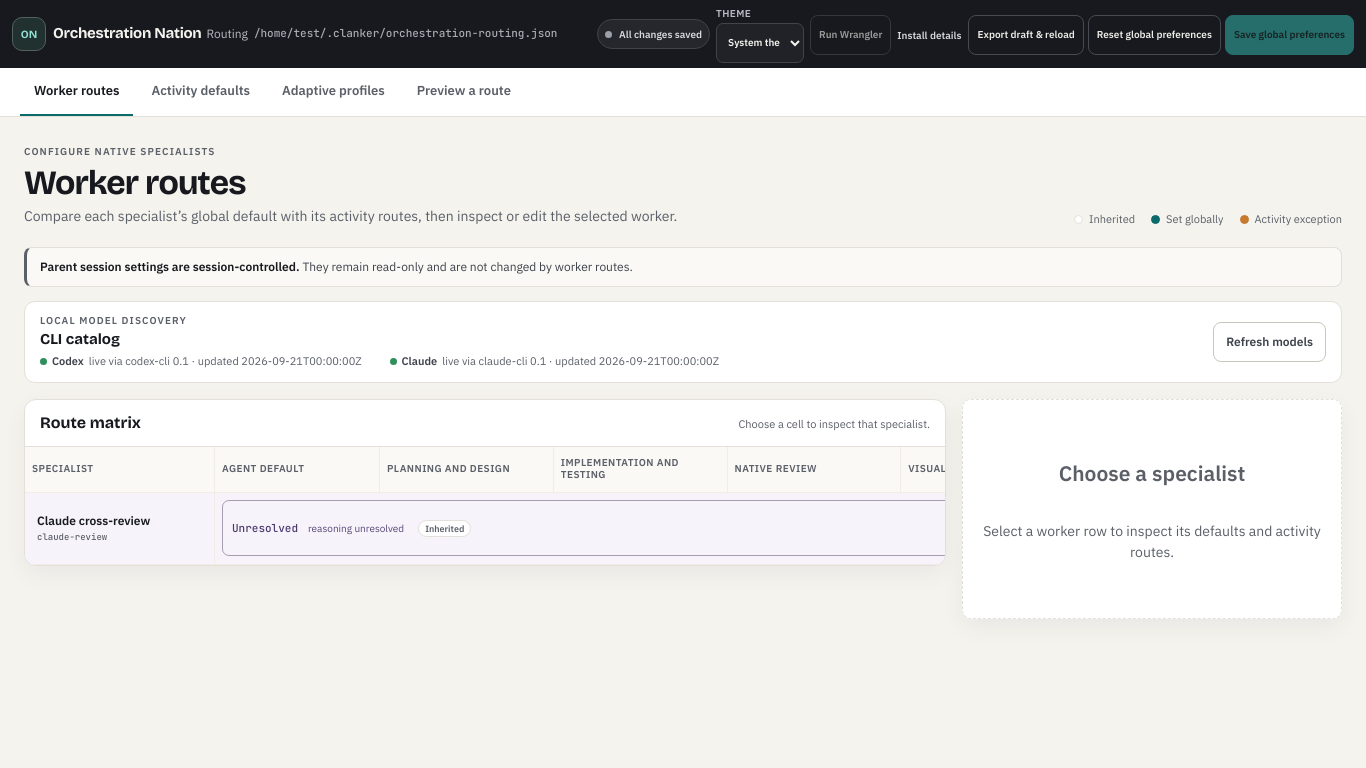
routing editor › does not clear a save failure when automatic draft validation succeeds
Click the tab "Activity defaults" at (201, 92), box 138,68 -> 264,116
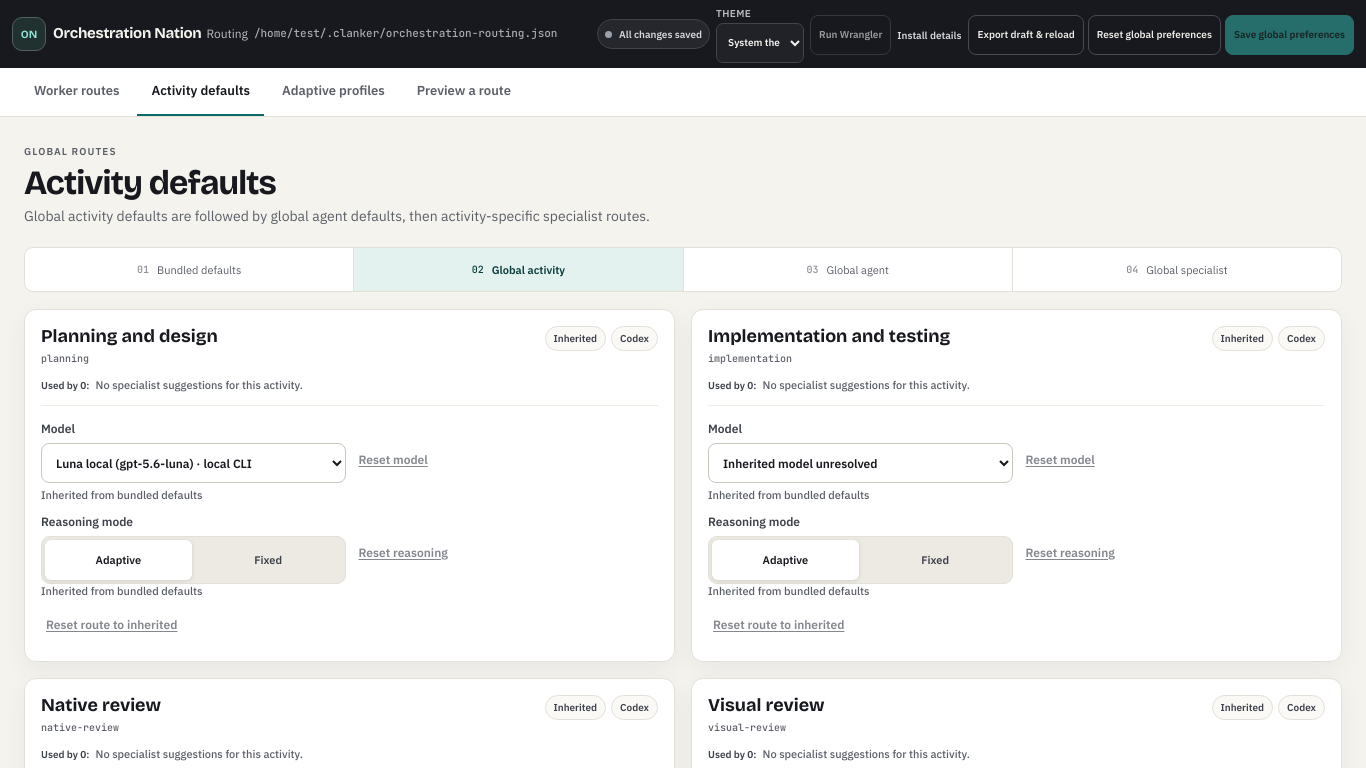
Select "Luna local (gpt-5.6-luna) · local CLI" in the dropdown labelled "Model Inherited from bundled defaults" below "Planning and design" at (193, 463), box 41,443 -> 346,483
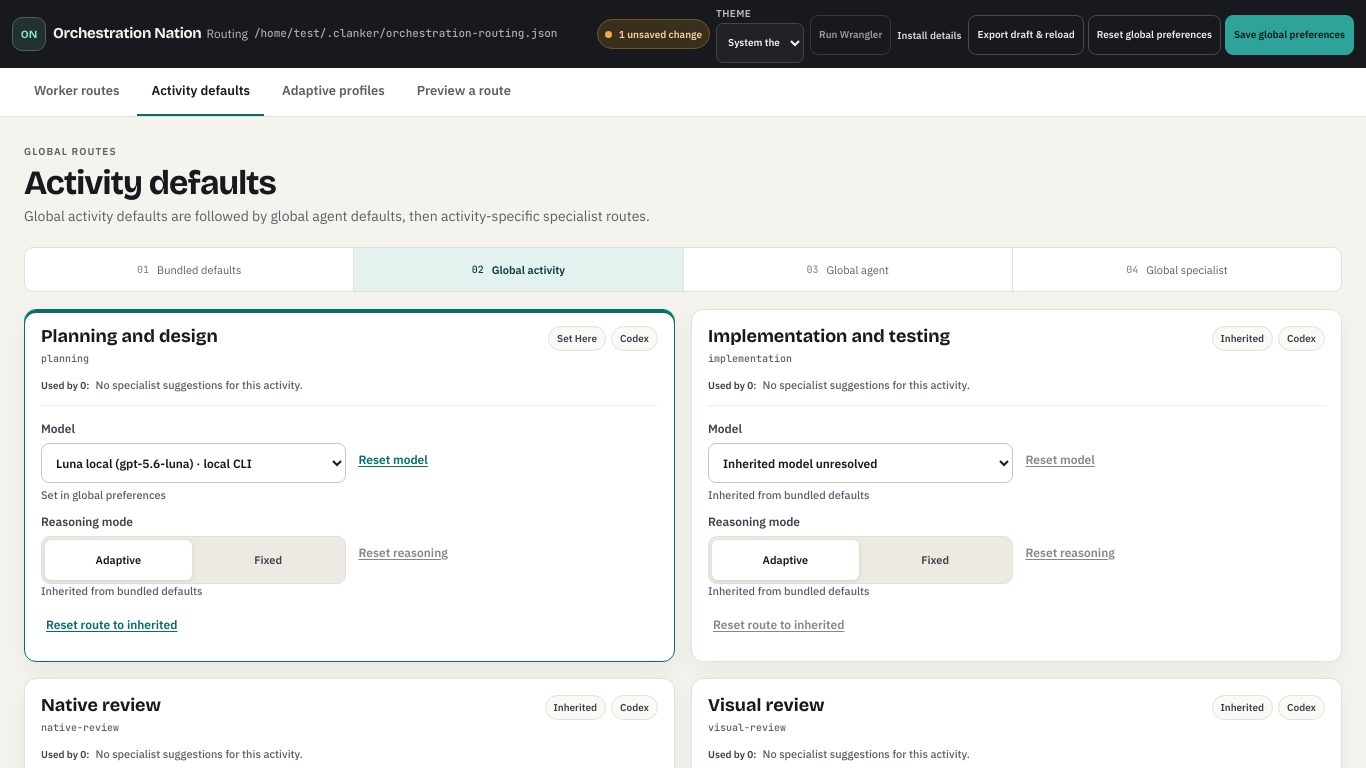
Click the button "Save global preferences" at (1289, 35), box 1225,15 -> 1354,55
Wait 180 ms
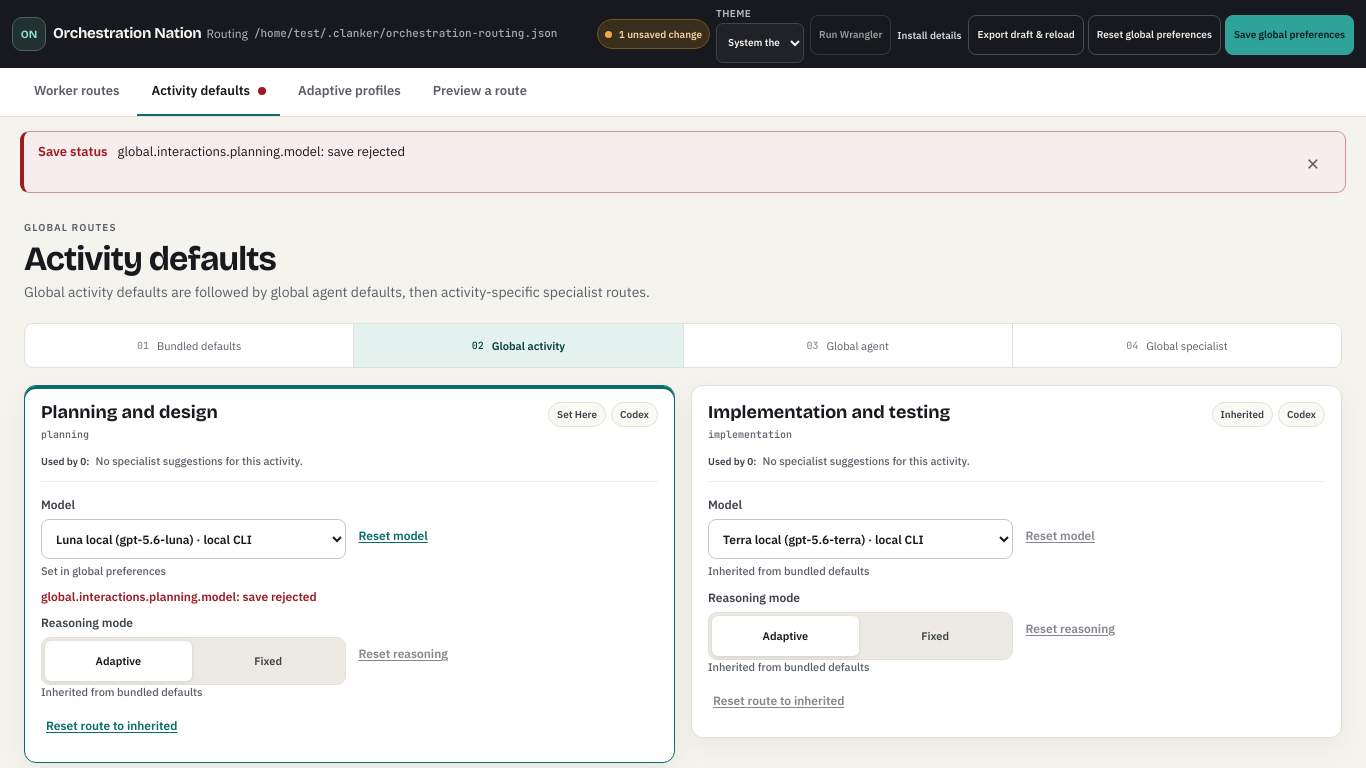
Expected: the message with id "interactions" shows "save rejected", 41,589 -> 317,604
Expected: the element with class "alert-stack" shows "save rejected", 118,143 -> 405,160
